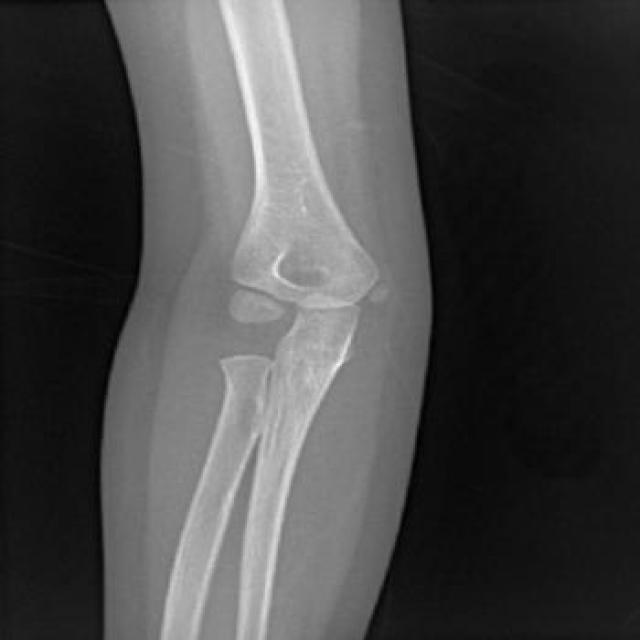Fracture: (206, 296, 292, 386)
